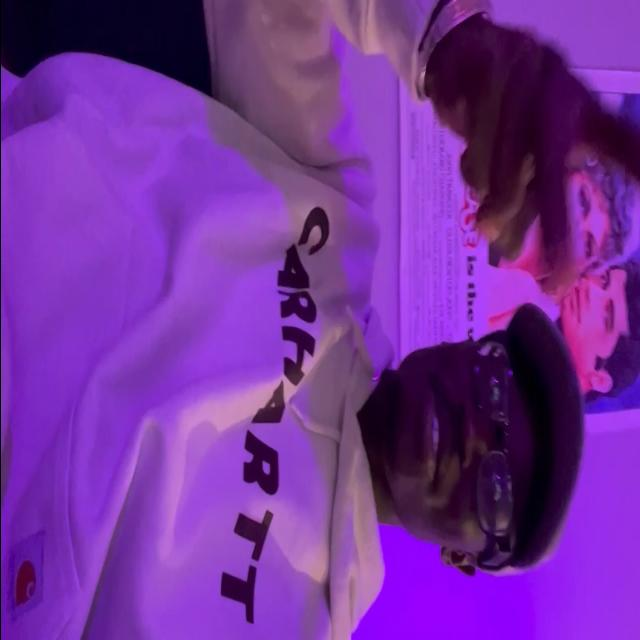Scissors: (425, 23, 640, 286)
